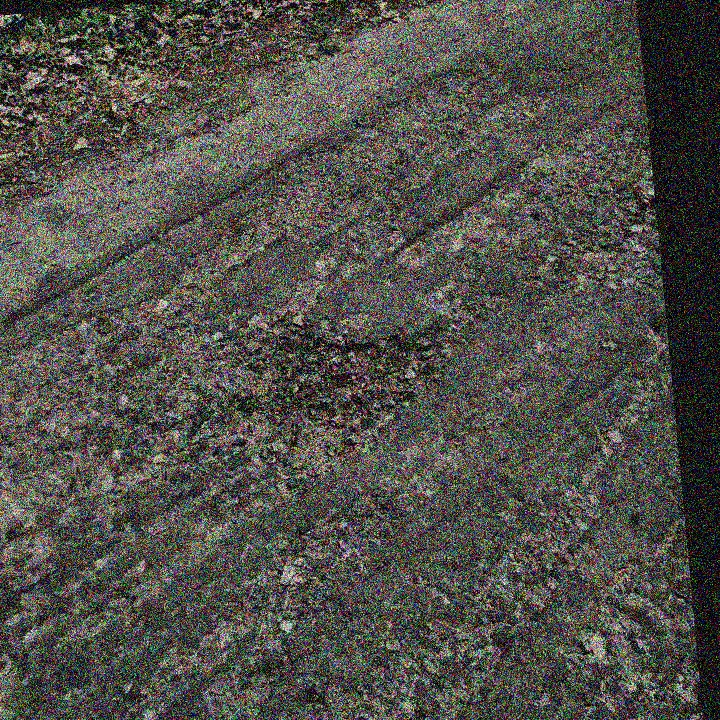pothole: (186, 316, 457, 487)
